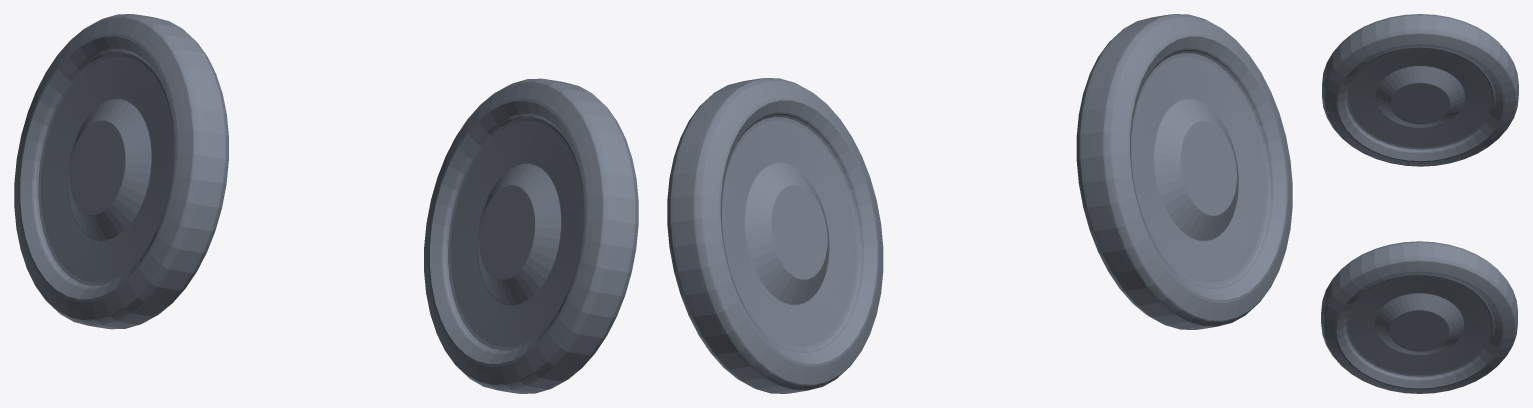
File: weight_2_1.obj
3 views of the same model, side by side, from view 1: azimuth 30°, elevation 25°; view 2: azimuth 150°, elevation 25°; view 3: azimuth 270°, elevation 25° (orthographic). The views are drawn at different scales.
Size of the model in its own units: 0.8725 by 0.6791 by 0.443.
